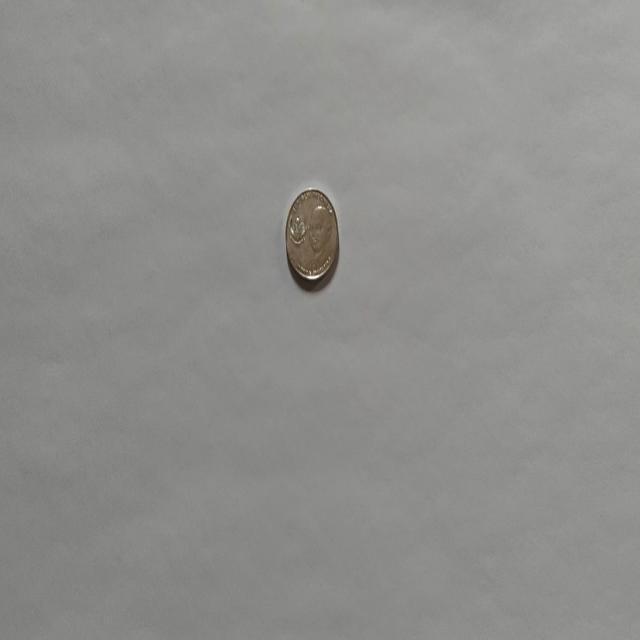lima ratus rupiah: (284, 186, 340, 284)
